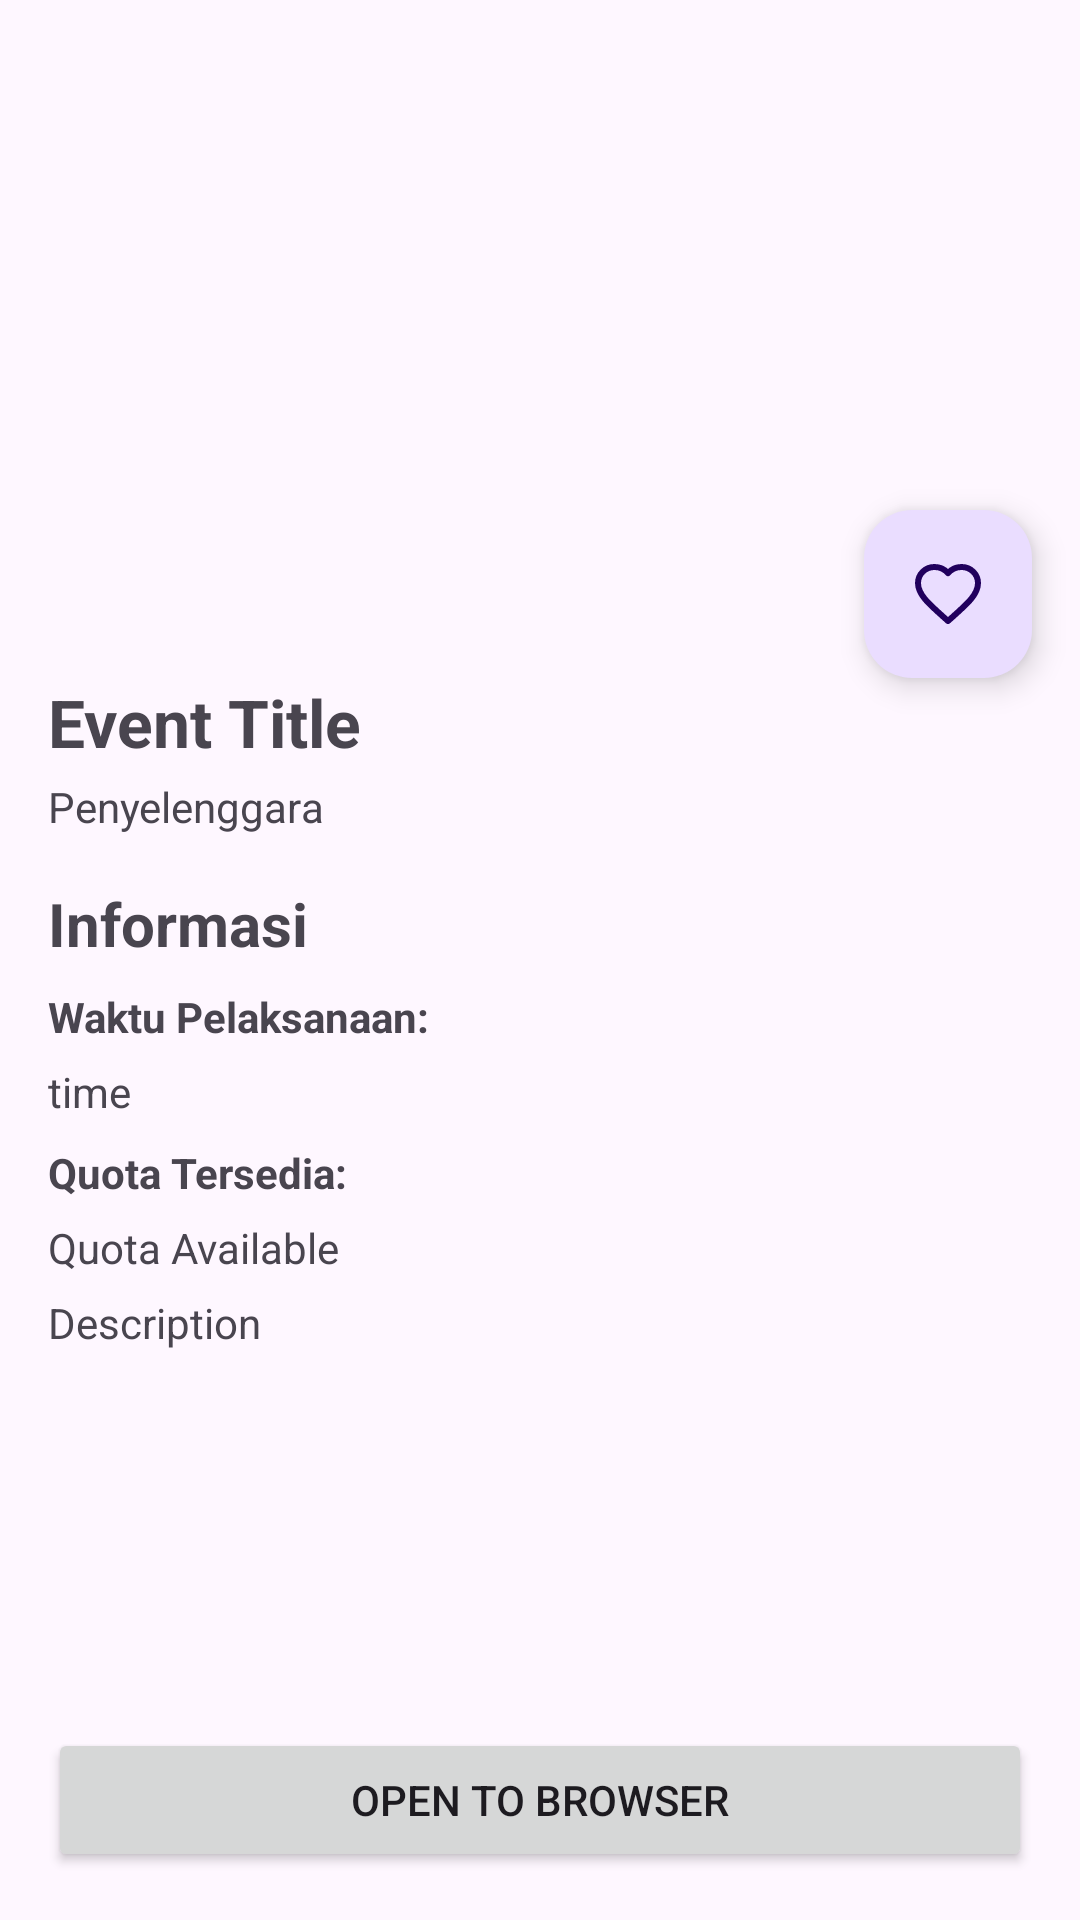

Point at icon controls on the screen. Image size 1080*1920, points as (x,y).
favourite border: (948,594)
